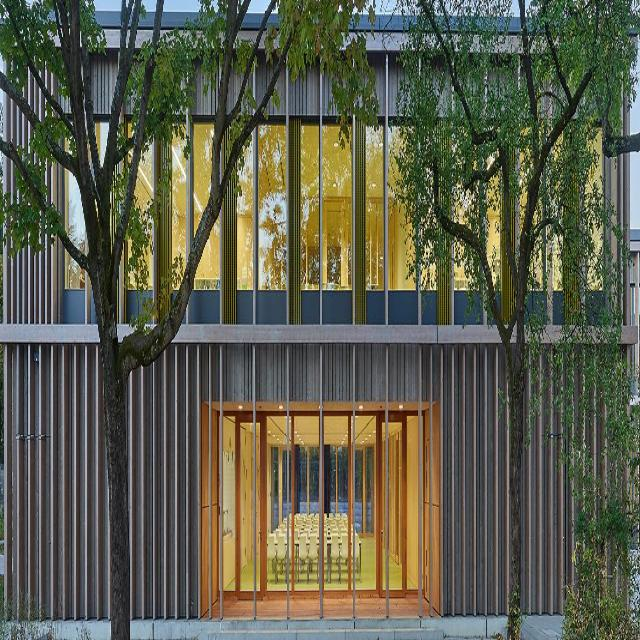door: (234, 419, 267, 605), (377, 411, 407, 595)
window: (269, 417, 377, 599), (301, 120, 352, 293), (235, 123, 286, 293), (366, 122, 409, 289), (218, 414, 234, 599), (408, 409, 423, 596)
